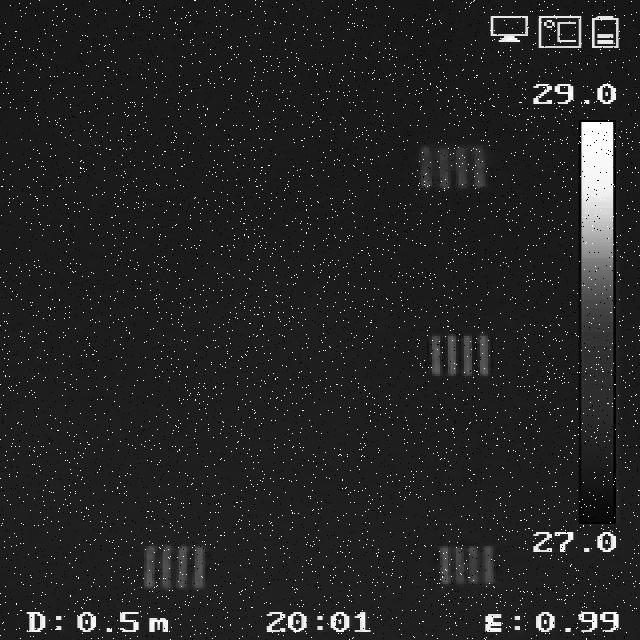Distinguishable 4-bar target: (417, 140, 488, 190), (140, 542, 209, 591), (434, 541, 502, 588), (425, 333, 496, 378)
